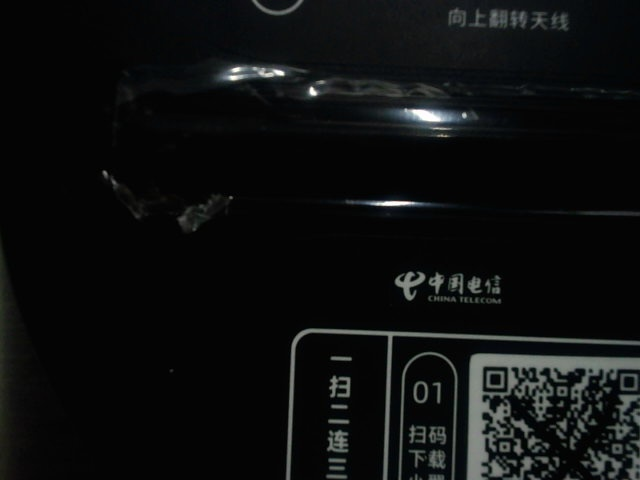AB_ChinaTelecom: (384, 260, 518, 305)
